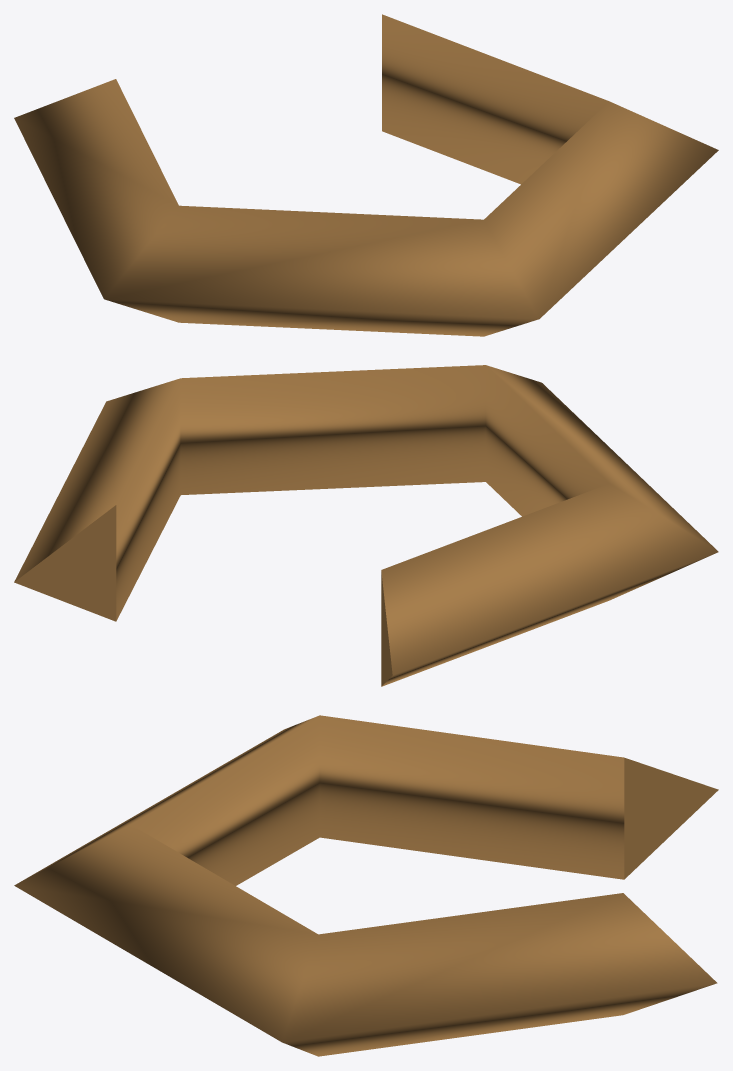
Rendered from septumBronze.glb.
3 renders of one model, top to bottom at view 1: azimuth 30°, elevation 25°; view 2: azimuth 150°, elevation 25°; view 3: azimuth 270°, elevation 25°, orthographic. The views are drawn at different scales.
Visible parts, largest first — view 1: septum silver; view 2: septum silver; view 3: septum silver.
Boxes of the visible parts, left/top/right/bottom form: septum silver: left=14, top=14, right=718, bottom=336; septum silver: left=14, top=365, right=718, bottom=686; septum silver: left=14, top=715, right=718, bottom=1056.
Size of the model in its own units: 0.0147 by 0.00268 by 0.014.
